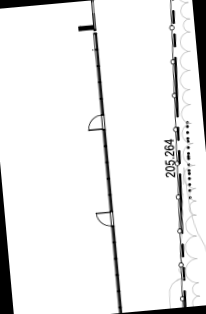door: (85, 113, 108, 132), (94, 209, 117, 227)
